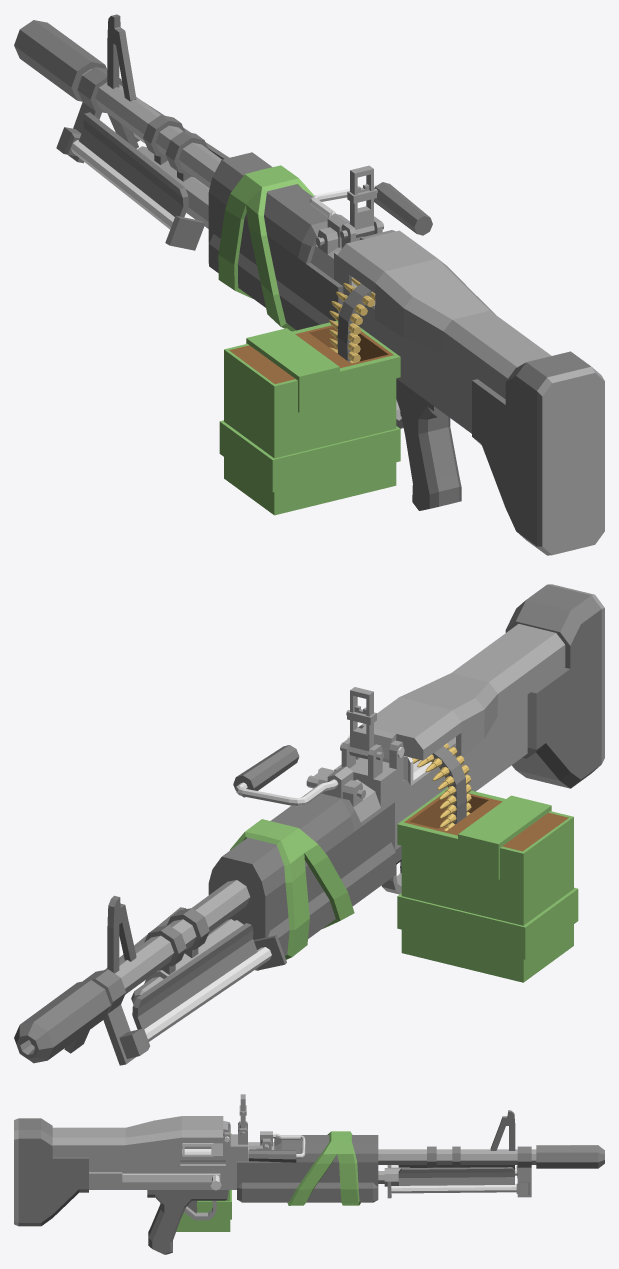
File: Cartoony M60.fbx
3 renders of one model, top to bottom at view 1: azimuth 30°, elevation 25°; view 2: azimuth 150°, elevation 25°; view 3: azimuth 270°, elevation 25°, orthographic. The views are drawn at different scales.
Parts seen in each view (by area): view 1: M60, AmmoPouch, Lid, BipodLeft, GreenWrap, AmmoBelt, RearSight; view 2: M60, AmmoPouch, Lid, BipodLeft, GreenWrap, AmmoBelt, RearSight; view 3: M60, Lid, BipodRight, GreenWrap, AmmoPouch, ChargingHandle, FeedingTray, BipodLeft, RearSight.
Boxes of the visible parts, <box> form: M60: <box>14,14,604,555</box>; AmmoPouch: <box>219,320,400,515</box>; Lid: <box>337,230,551,398</box>; BipodLeft: <box>56,112,205,250</box>; GreenWrap: <box>218,165,314,331</box>; AmmoBelt: <box>329,278,375,363</box>; RearSight: <box>340,165,383,238</box>; M60: <box>14,584,604,1065</box>; AmmoPouch: <box>397,787,578,982</box>; Lid: <box>358,624,565,762</box>; BipodLeft: <box>119,923,286,1058</box>; GreenWrap: <box>230,819,354,959</box>; AmmoBelt: <box>412,743,471,830</box>; RearSight: <box>340,687,383,760</box>; M60: <box>14,1110,604,1254</box>; Lid: <box>52,1116,230,1157</box>; BipodRight: <box>387,1167,529,1198</box>; GreenWrap: <box>287,1131,360,1205</box>; AmmoPouch: <box>176,1133,231,1231</box>; ChargingHandle: <box>122,1173,221,1190</box>; FeedingTray: <box>182,1143,222,1156</box>; BipodLeft: <box>387,1165,517,1177</box>; RearSight: <box>239,1094,246,1136</box>.
Bounding box in the file's own units: 26.52 × 31.16 × 108.
